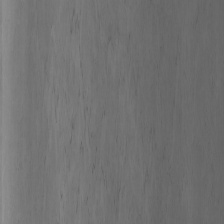silk_spot: (40, 4, 164, 211)
